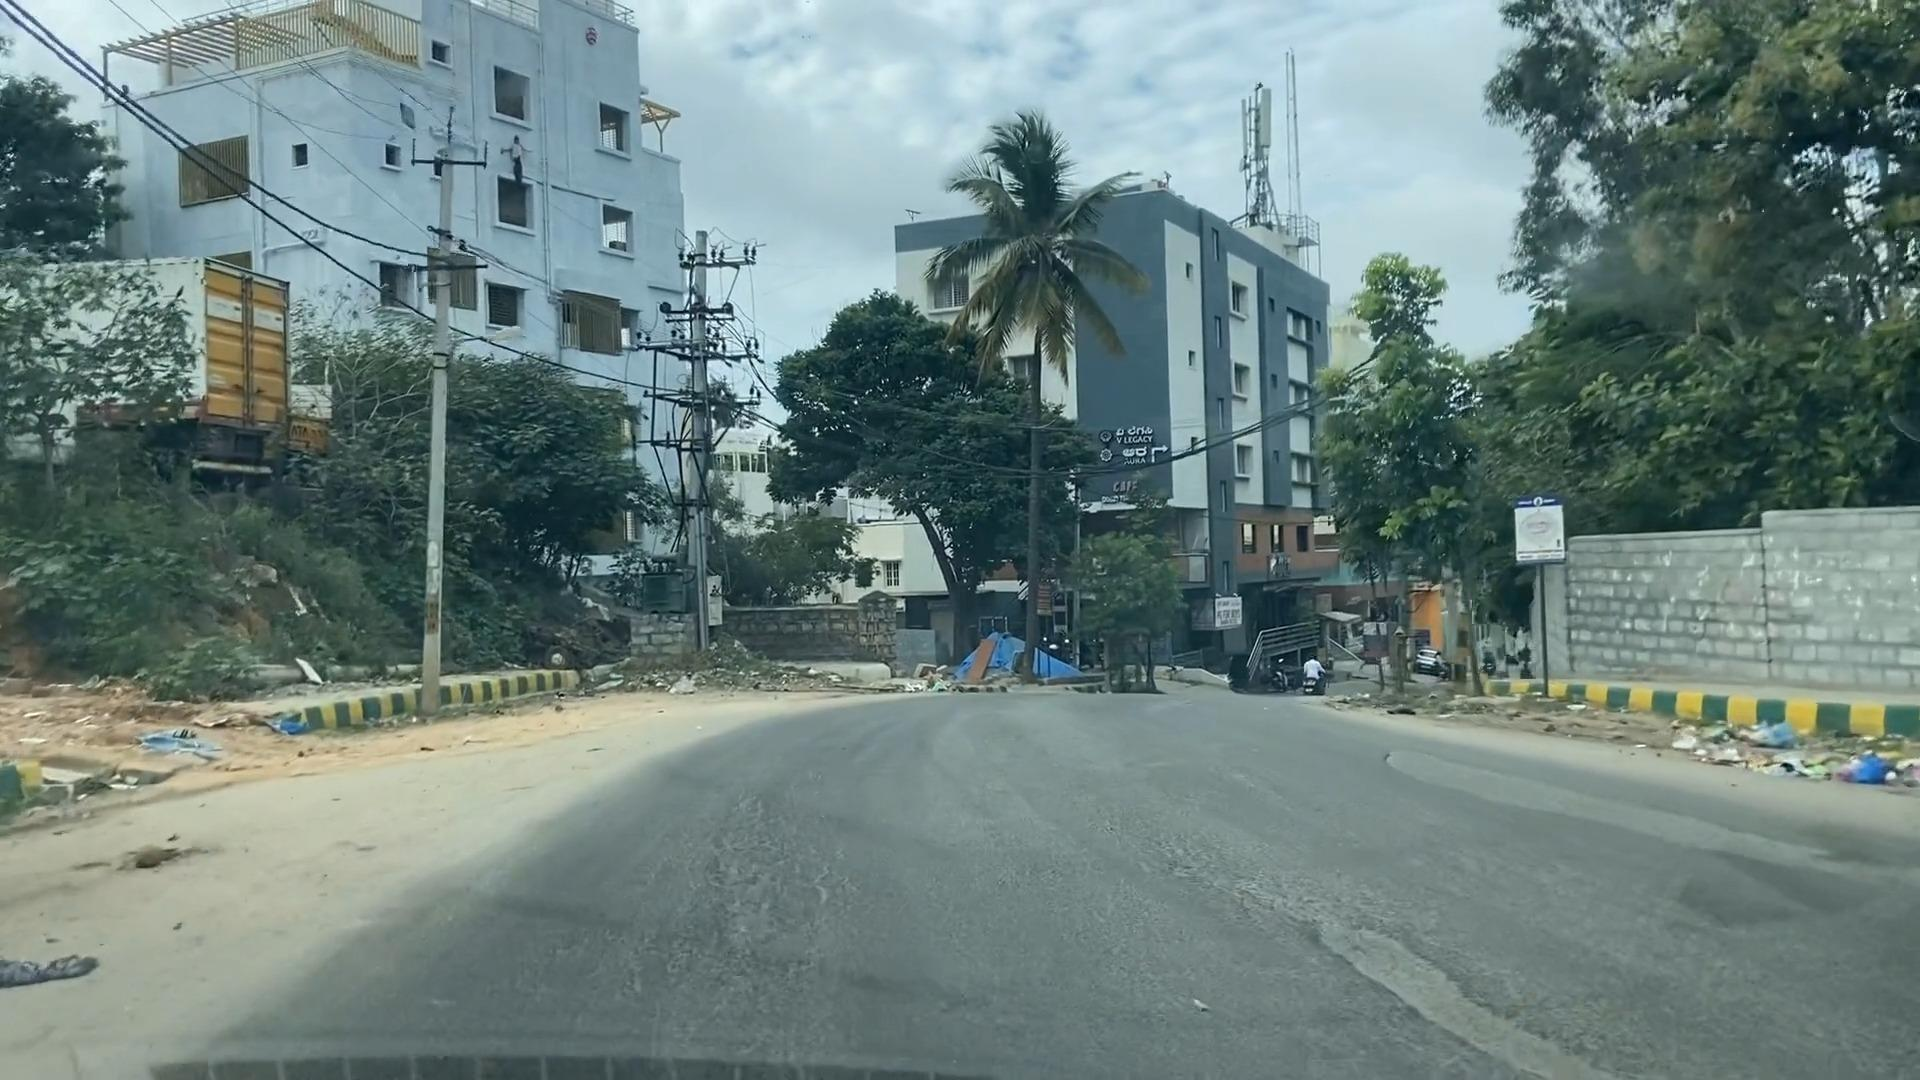RoadDamages: (1345, 723, 1920, 947), (1130, 819, 1617, 1080)
